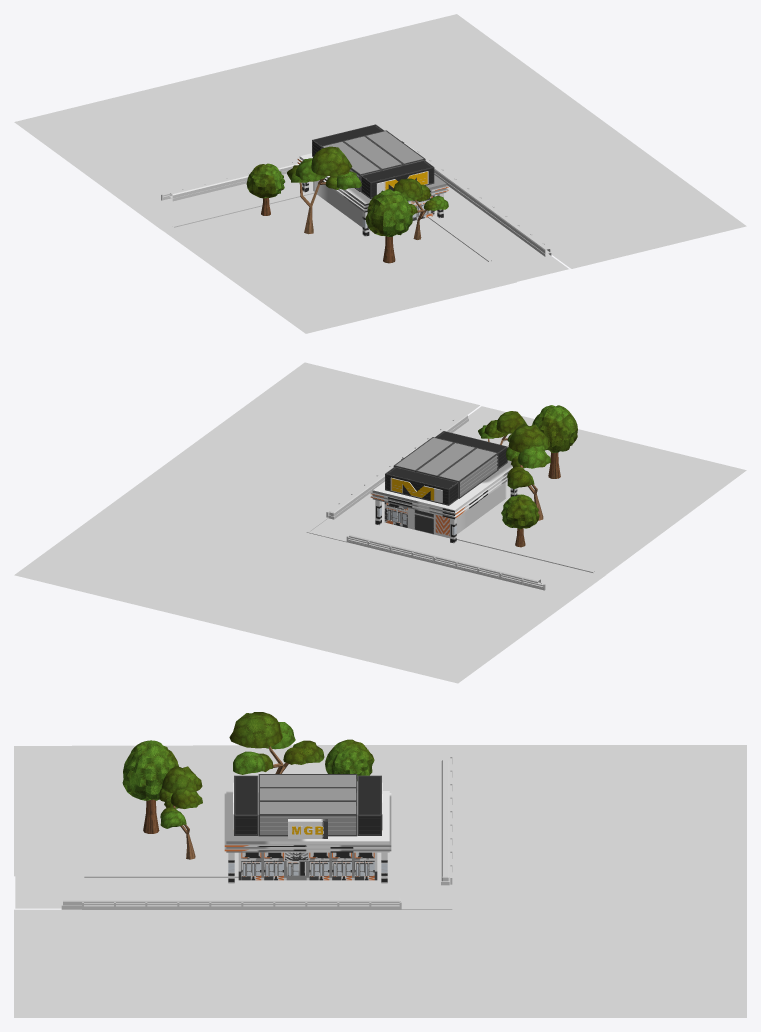
Rendered from 餐廳優化0306untitled.fbx.
3 renders of one model, top to bottom at view 1: azimuth 30°, elevation 25°; view 2: azimuth 150°, elevation 25°; view 3: azimuth 270°, elevation 25°, orthographic. The views are drawn at different scales.
Parts seen in each view (by area): view 1: 立方體.002, 立方體.009, 平面.001, 貨櫃箱, 平面.004, 平面.003, 屋頂, 立方體.003, 平面.005, 平面.002, 立方體.012, 立方體.011 (+1 smaller); view 2: 立方體.002, 立方體.009, 平面.001, 貨櫃箱, 屋頂, 平面.004, 立方體.012, 平面.003, 右側牆, 平面.005, 立方體.011, 立方體.003 (+2 smaller); view 3: 立方體.002, 立方體.009, 平面.001, 貨櫃箱, 屋頂, 平面.004, 正門指示牌.004, 立方體.012, 平面.003, 立方體.003, 平面.002, 平面.005 (+1 smaller).
Part boxes in pixels (x1=…): 立方體.002: x1=14, y1=14, x2=746, y2=268; 立方體.009: x1=162, y1=193, x2=516, y2=333; 平面.001: x1=131, y1=173, x2=568, y2=281; 貨櫃箱: x1=312, y1=124, x2=434, y2=198; 平面.004: x1=287, y1=146, x2=361, y2=234; 平面.003: x1=365, y1=189, x2=412, y2=263; 屋頂: x1=297, y1=141, x2=448, y2=236; 立方體.003: x1=416, y1=151, x2=551, y2=256; 平面.005: x1=246, y1=163, x2=285, y2=215; 平面.002: x1=393, y1=178, x2=448, y2=239; 立方體.012: x1=161, y1=151, x2=544, y2=261; 立方體.011: x1=169, y1=161, x2=298, y2=201; 立方體.002: x1=14, y1=362, x2=574, y2=683; 立方體.009: x1=456, y1=419, x2=746, y2=574; 平面.001: x1=310, y1=406, x2=605, y2=597; 貨櫃箱: x1=385, y1=431, x2=507, y2=505; 屋頂: x1=370, y1=448, x2=517, y2=543; 平面.004: x1=506, y1=424, x2=550, y2=520; 立方體.012: x1=306, y1=419, x2=594, y2=590; 平面.003: x1=532, y1=405, x2=577, y2=478; 右側牆: x1=384, y1=502, x2=449, y2=538; 平面.005: x1=501, y1=494, x2=539, y2=547; 立方體.011: x1=349, y1=533, x2=541, y2=585; 立方體.003: x1=328, y1=413, x2=468, y2=519; 立方體.002: x1=14, y1=745, x2=746, y2=1017; 立方體.009: x1=14, y1=745, x2=372, y2=876; 平面.001: x1=15, y1=745, x2=451, y2=908; 貨櫃箱: x1=234, y1=774, x2=381, y2=836; 屋頂: x1=224, y1=782, x2=391, y2=883; 平面.004: x1=229, y1=712, x2=324, y2=774; 正門指示牌.004: x1=241, y1=852, x2=374, y2=880; 立方體.012: x1=82, y1=751, x2=452, y2=909; 平面.003: x1=122, y1=740, x2=178, y2=833; 立方體.003: x1=61, y1=897, x2=400, y2=909; 平面.002: x1=159, y1=765, x2=202, y2=859; 平面.005: x1=325, y1=739, x2=374, y2=780.
Size of the model in its own units: 10273 by 1892 by 11652.
